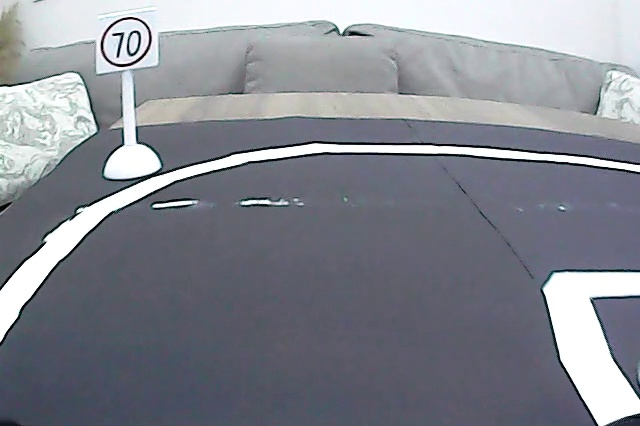speed limit 70: (99, 10, 155, 71)
